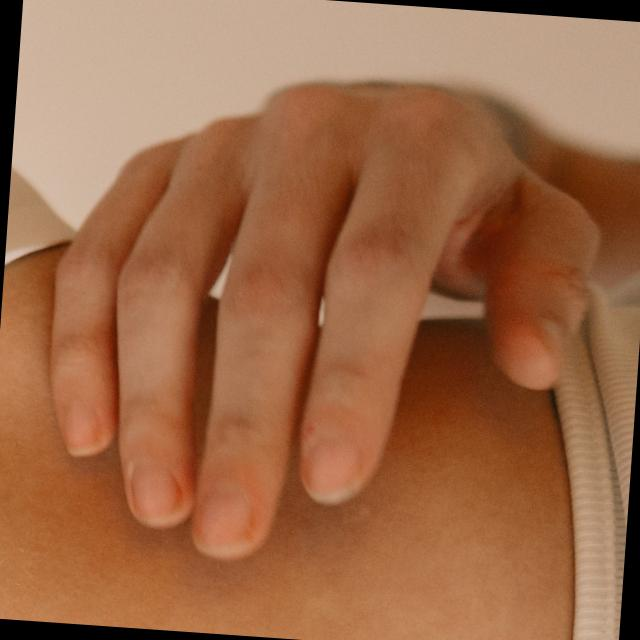Nail: (192, 484, 252, 556), (302, 437, 360, 503), (131, 465, 180, 528), (533, 314, 566, 376), (63, 405, 100, 457)
